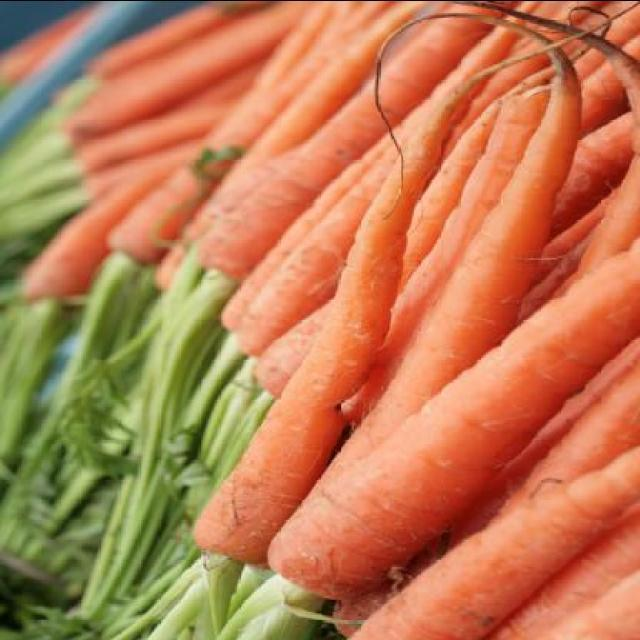Carrot: (108, 0, 640, 640)
